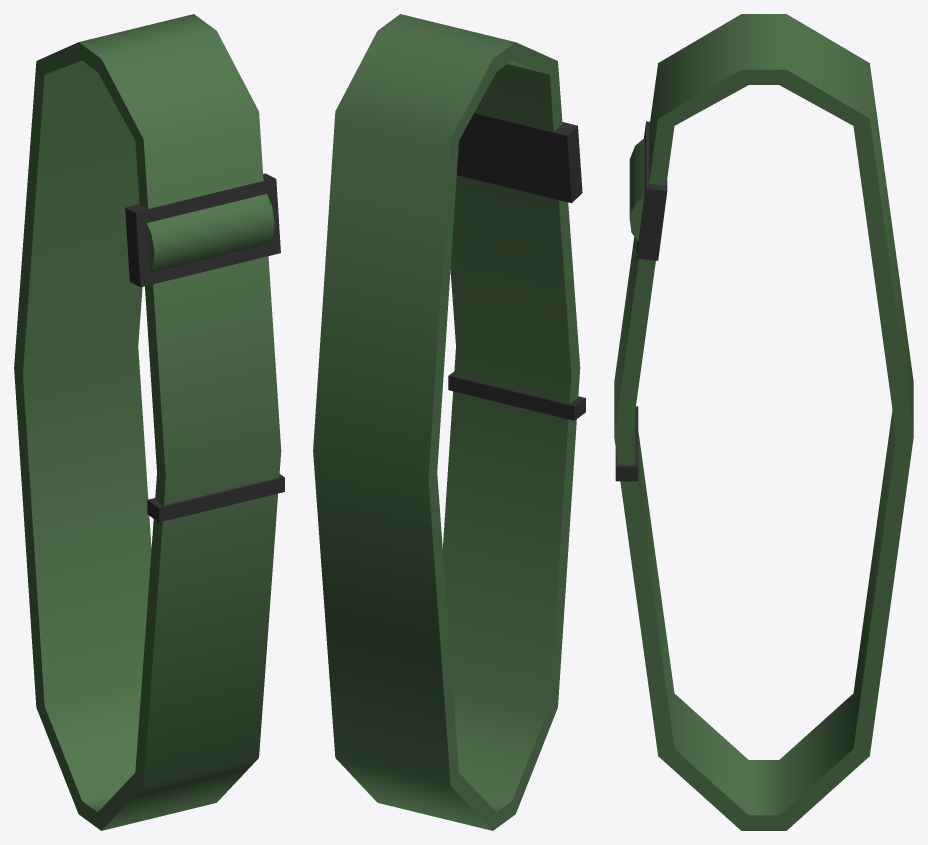
File: leash3.fbx
The picture shows the model from 3 angles, left to right: view 1: azimuth 30°, elevation 25°; view 2: azimuth 150°, elevation 25°; view 3: azimuth 270°, elevation 25°; orthographic projection.
Parts seen in each view (by area): view 1: Cube.041; view 2: Cube.041; view 3: Cube.041.
Boxes of the visible parts, box(x1,y1,x2,y2) form: Cube.041: box(14, 14, 284, 830); Cube.041: box(313, 14, 585, 830); Cube.041: box(614, 14, 913, 830).
Bounding box in the file's own units: 2.18 × 11.48 × 4.09.
Materials: 1 (1 with a texture image).
